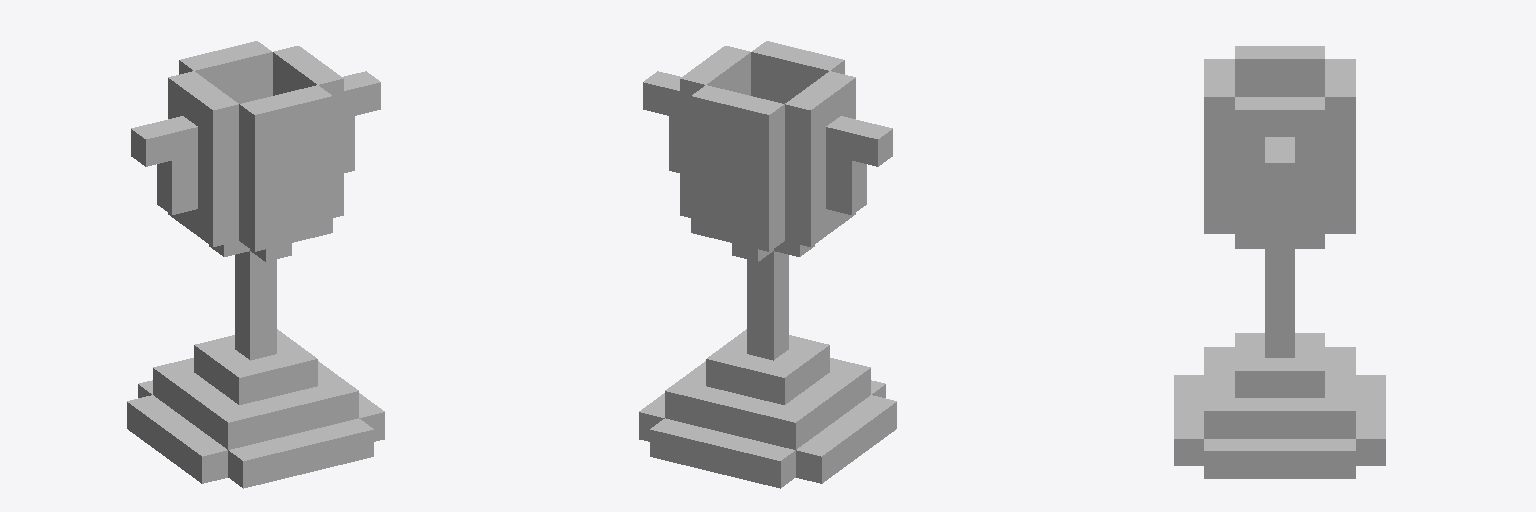
The model's file is trophy silver A.obj.
The picture shows the model from 3 angles: view 1: azimuth 30°, elevation 25°; view 2: azimuth 150°, elevation 25°; view 3: azimuth 270°, elevation 25°; orthographic projection.
Visible parts, largest first — view 1: trophie silver A; view 2: trophie silver A; view 3: trophie silver A.
Part boxes in pixels (bbox=[...]): trophie silver A: bbox=[127, 41, 384, 488]; trophie silver A: bbox=[639, 41, 896, 488]; trophie silver A: bbox=[1174, 46, 1385, 478].
Size of the model in its own units: 9 by 13 by 7.